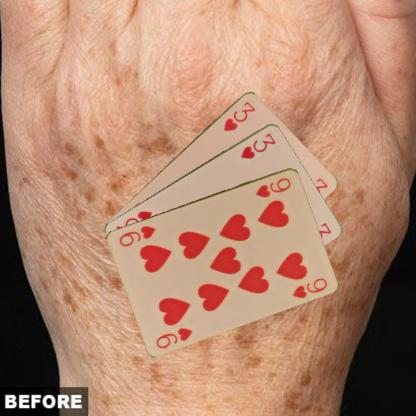3h: (238, 130, 277, 160), (221, 99, 256, 132)
9h: (153, 324, 194, 350), (252, 174, 292, 199)
